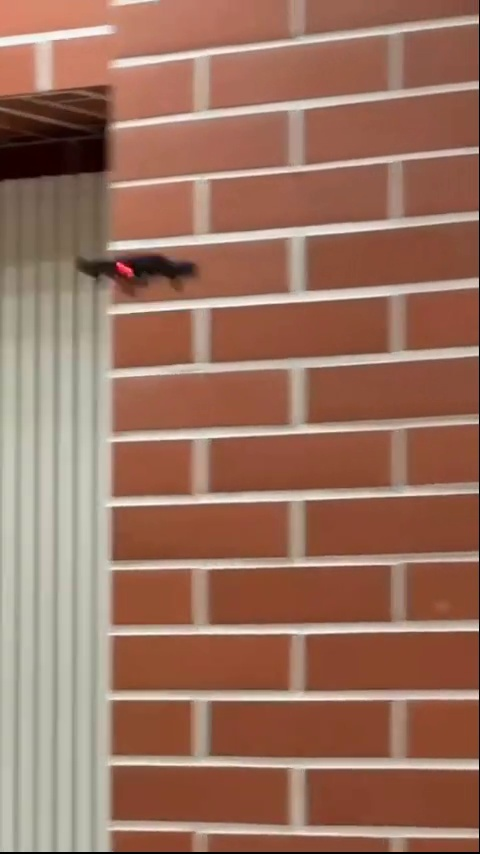drone: (77, 251, 200, 297)
